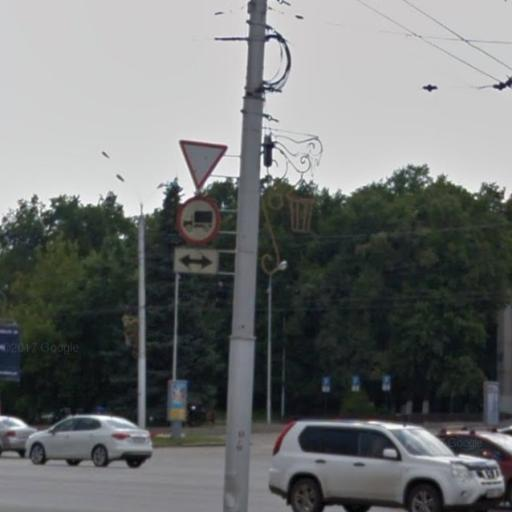traffic_sign: (179, 140, 230, 192), (175, 197, 223, 250)
